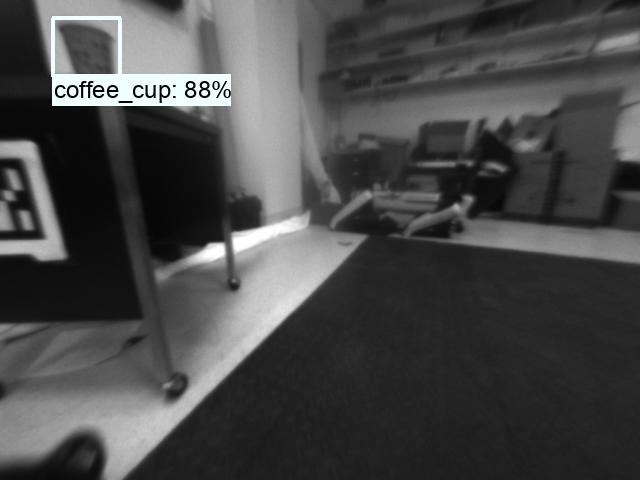coffee_cup: (55, 20, 120, 80)
